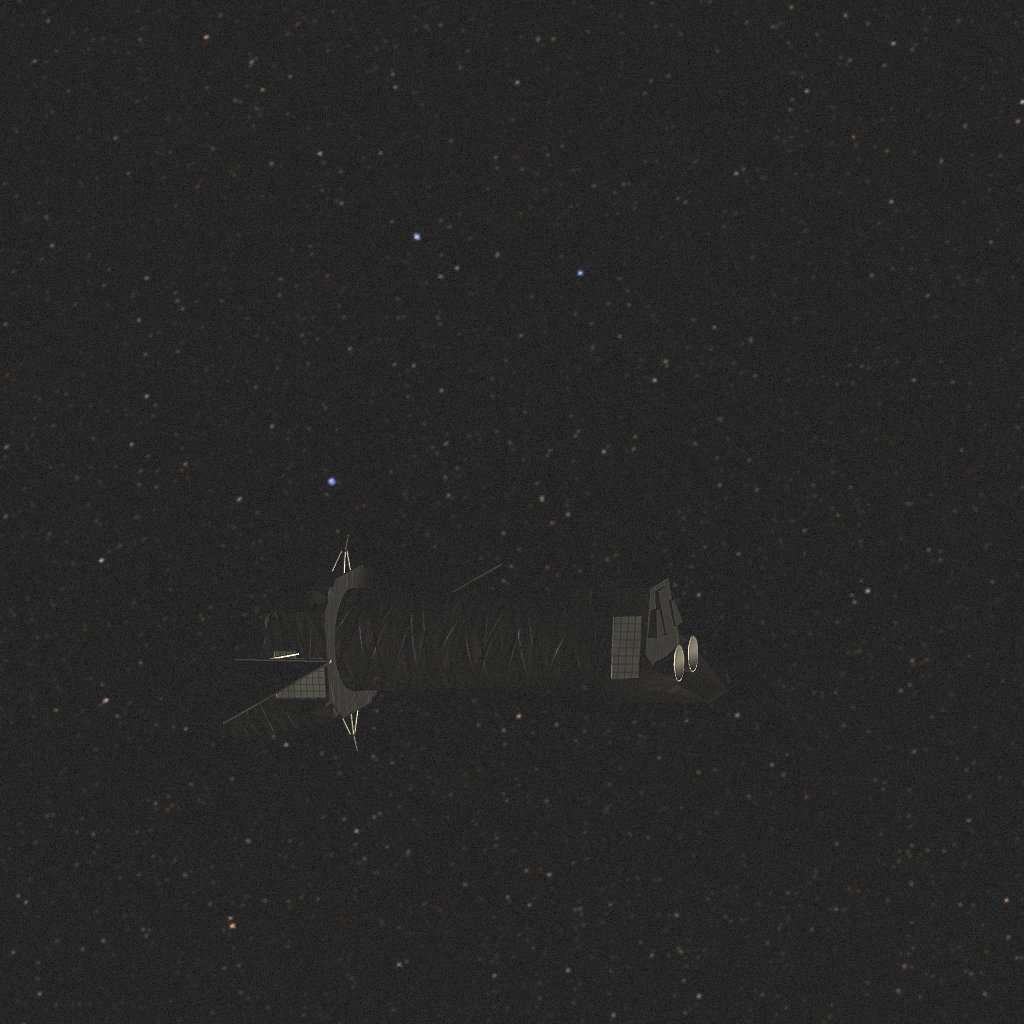xmm_newton: (125, 534, 728, 751)
